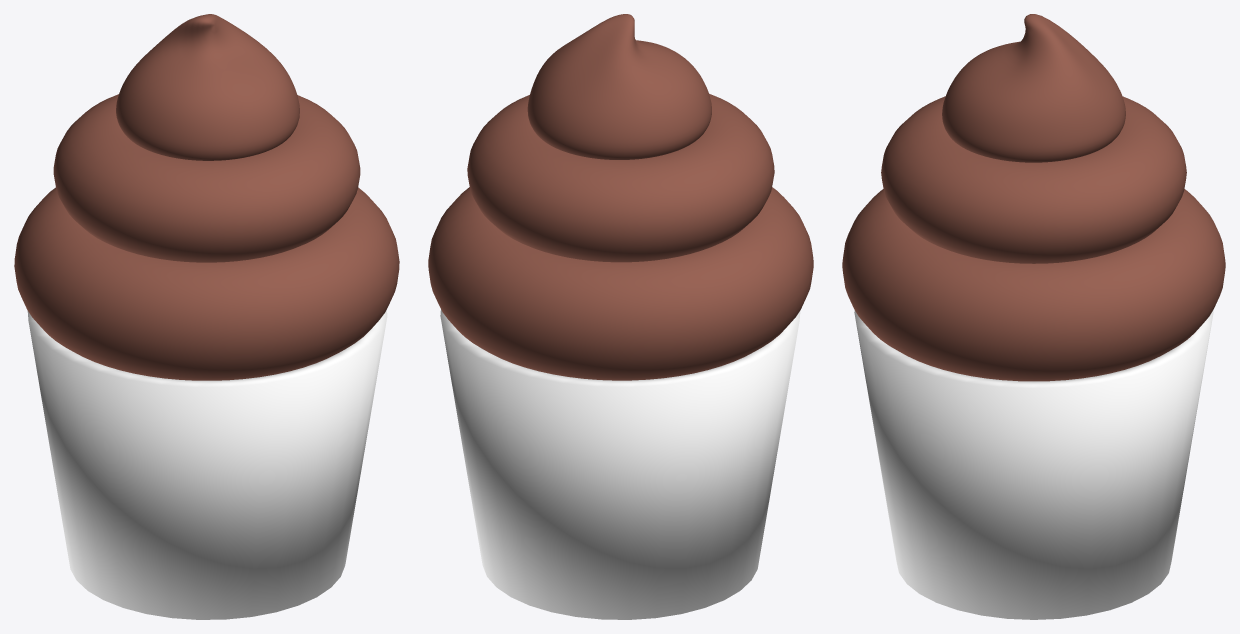
The model's file is chocolate_excellent.glb.
3 views of the same model, side by side, from view 1: azimuth 30°, elevation 25°; view 2: azimuth 150°, elevation 25°; view 3: azimuth 270°, elevation 25° (orthographic).
Visible parts, largest first — view 1: 圓柱體, 環體, 環體.001, 球體; view 2: 圓柱體, 環體, 環體.001, 球體; view 3: 圓柱體, 環體, 環體.001, 球體.
Boxes of the visible parts, x1,y1,x2,y2 form: 圓柱體: [27, 309, 387, 619]; 環體: [14, 187, 399, 380]; 環體.001: [53, 94, 360, 262]; 球體: [116, 14, 299, 160]; 圓柱體: [440, 309, 800, 619]; 環體: [428, 187, 813, 380]; 環體.001: [467, 93, 774, 262]; 球體: [527, 14, 711, 159]; 圓柱體: [854, 310, 1213, 619]; 環體: [842, 189, 1225, 381]; 環體.001: [881, 96, 1186, 263]; 球體: [942, 14, 1125, 162].
Size of the model in its own units: 2.94 by 4.59 by 2.94.
Materials: 2 (1 with a texture image).
